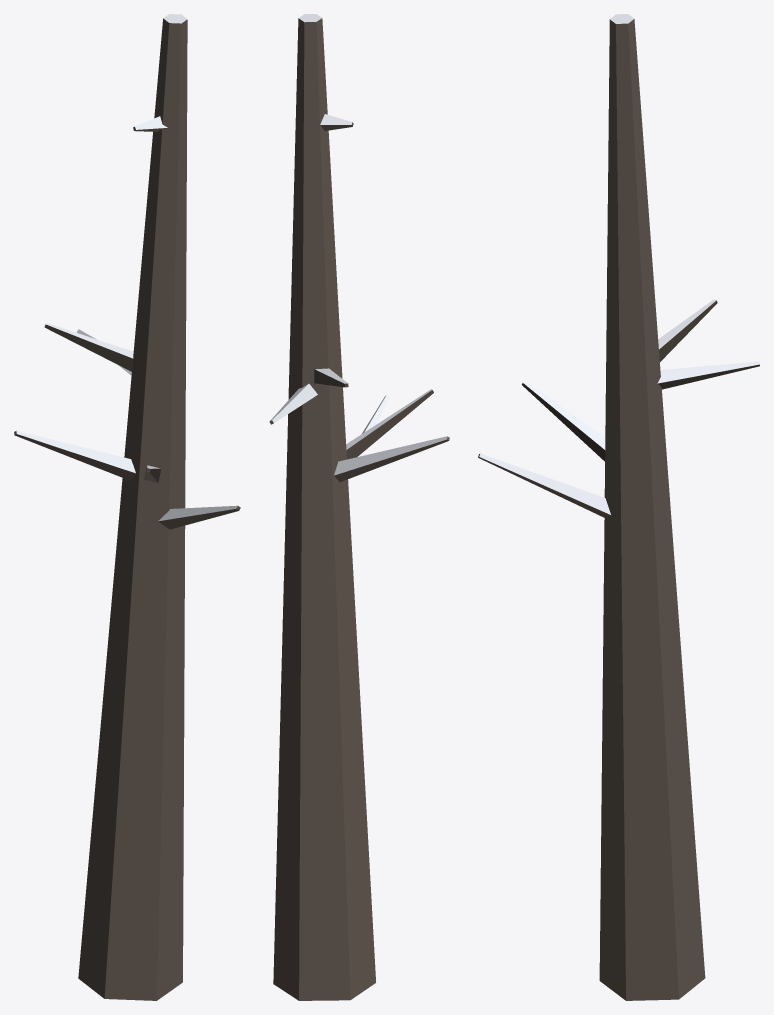
File: snag.glb
3 views of the same model, side by side, from view 1: azimuth 30°, elevation 25°; view 2: azimuth 150°, elevation 25°; view 3: azimuth 270°, elevation 25° (orthographic). The views are drawn at different scales.
Parts seen in each view (by area): view 1: snag; view 2: snag; view 3: snag.
Part boxes in pixels (left/top/right/bottom): snag: left=14, top=14, right=240, bottom=1000; snag: left=269, top=14, right=449, bottom=1000; snag: left=478, top=14, right=759, bottom=1000.
Bounding box in the file's own units: 1.06 × 6.12 × 1.6.
